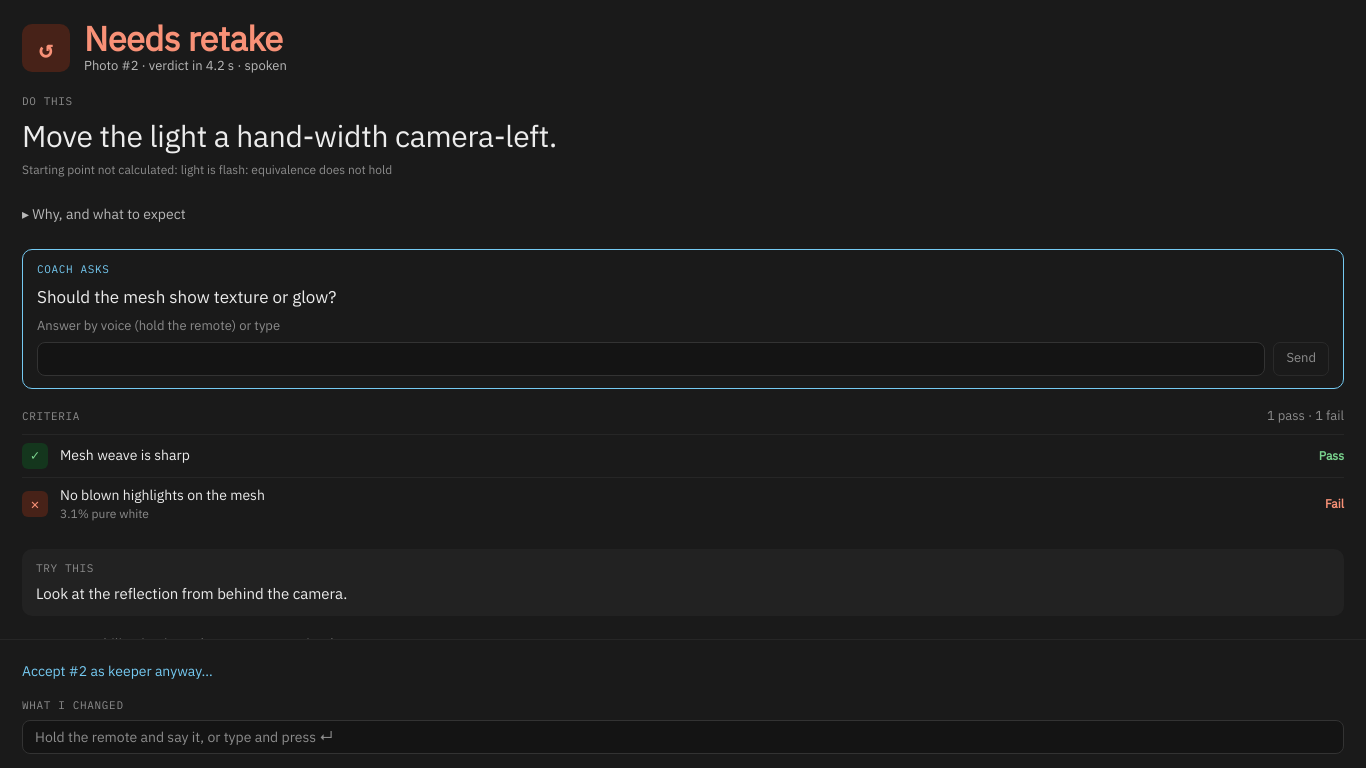
CoachPanel › renders a retake verdict: do this, why, coach asks, criteria, causes, model line
Expected: the heading "Needs retake" is shown, [84, 16, 283, 60]
Expected: the text "Photo #2 · verdict in 4.2 s · spoken" is shown, [84, 57, 287, 74]
Step 1. Click the button "▸ Why, and what to expect" → (104, 214), box [22, 197, 186, 231]
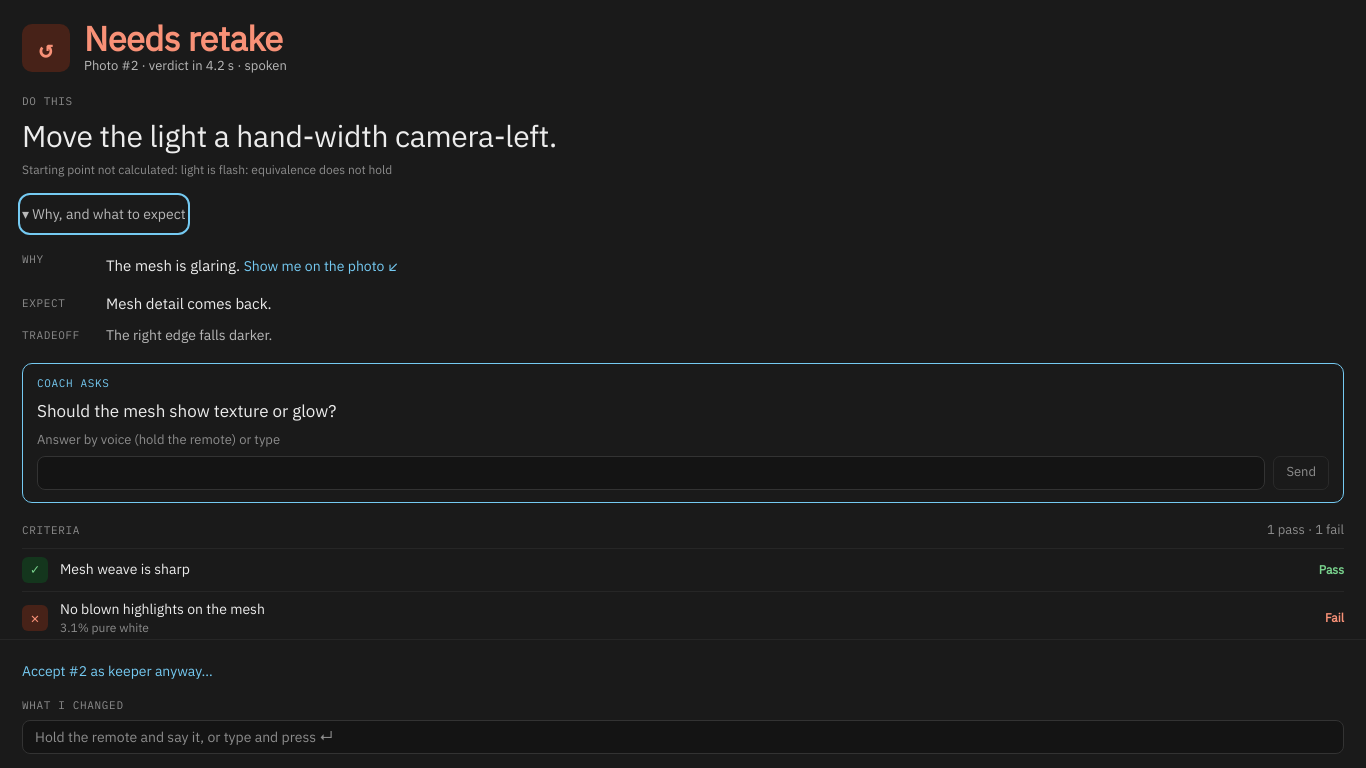
Now the text "The right edge falls darker." is shown, box [106, 326, 272, 344]
Step 2. Click the button "Show me on the photo ↙" → (321, 266), box [244, 249, 399, 283]
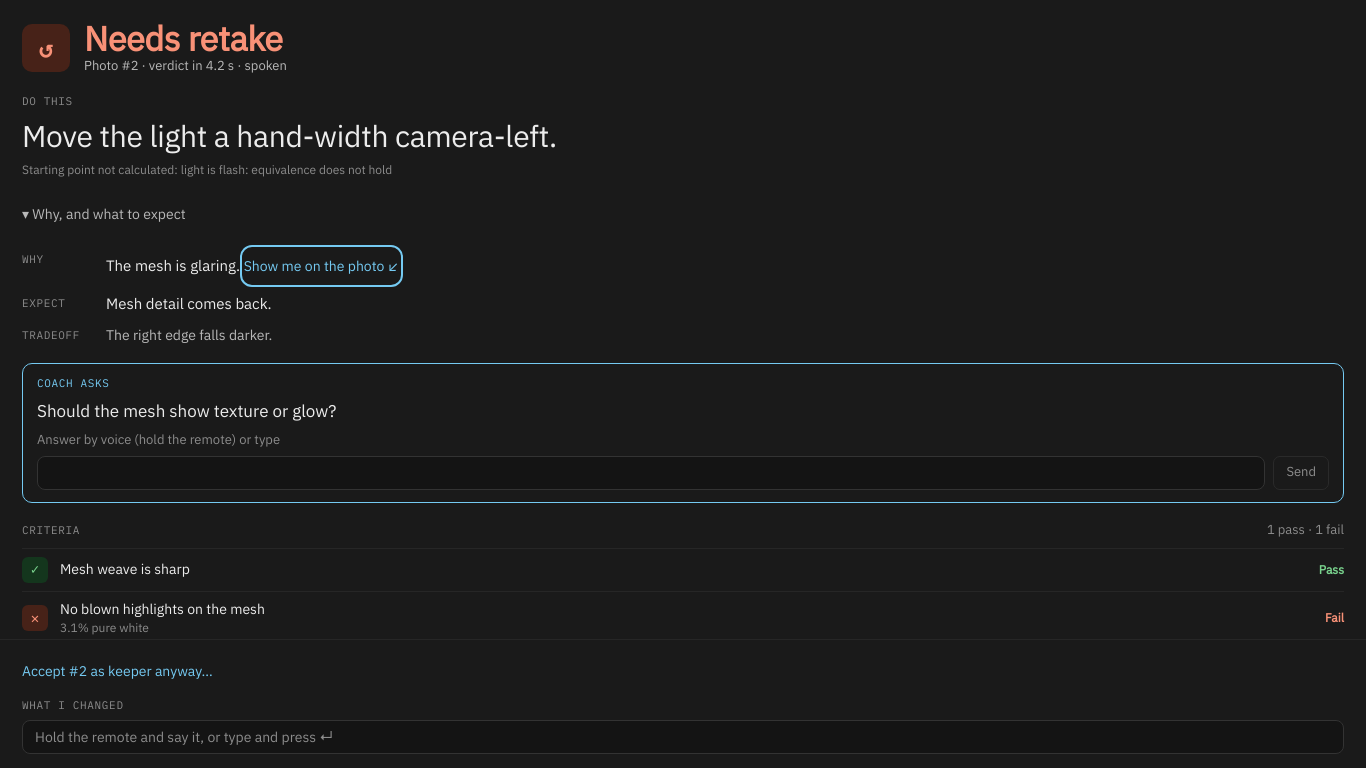
Expected: the text "Should the mesh show texture or glow?" is shown, [37, 400, 336, 422]
Step 3. Type "Texture" into the field labelled "Answer by voice (hold the remote) or type" → (651, 473), box [37, 456, 1265, 490]
Then press Enter
(page scrolled)
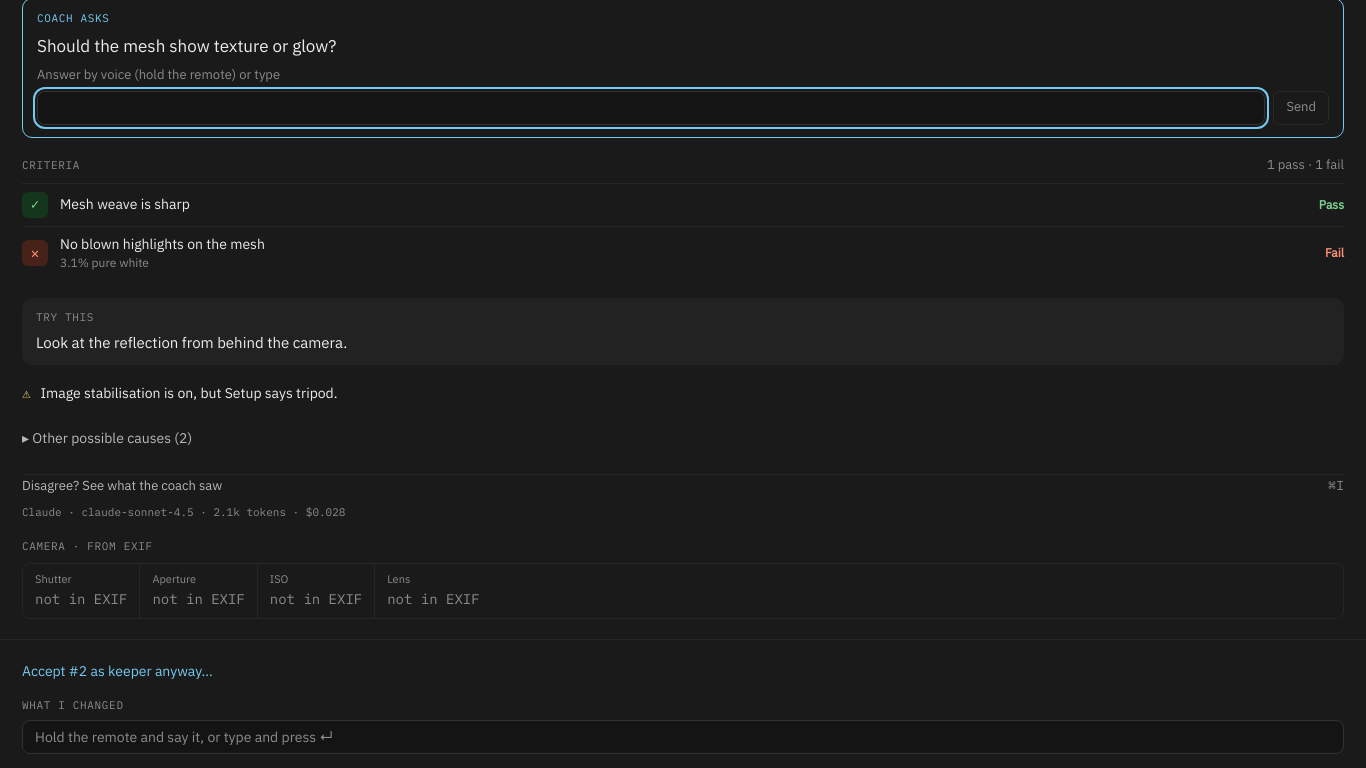
Expected: the text "Pass" is shown, [1319, 196, 1344, 213]
Now the text "Look at the reflection from behind the camera." is shown, box [36, 333, 347, 352]
Now the text "Image stabilisation is on, but Setup says tripod." is shown, box [40, 383, 338, 404]
Step 4. Click the button "▸ Other possible causes (2)" → (107, 439), box [22, 422, 192, 456]
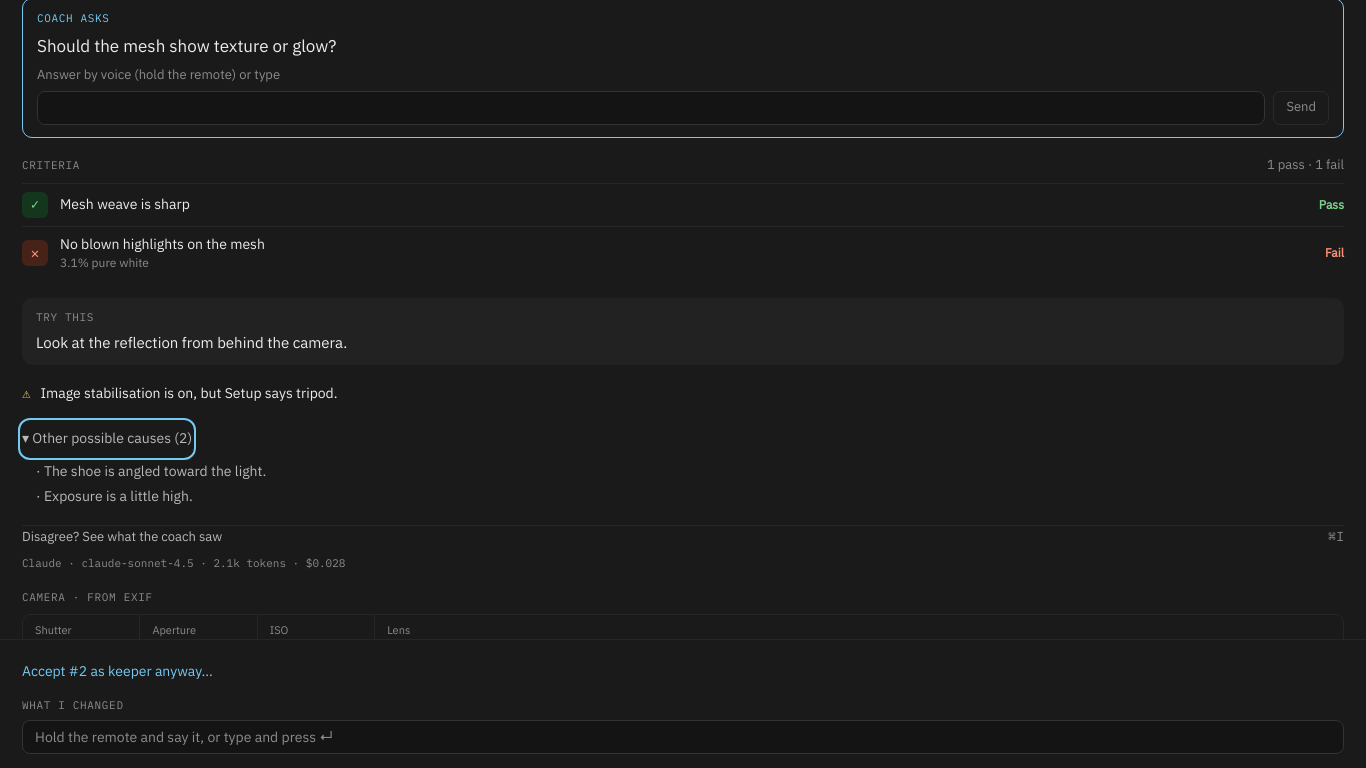
Expected: the button "Accept #2 as keeper anyway…" is shown, [22, 654, 213, 688]
Now the text with test id "coach-meta" reads "Claude · claude-sonnet-4.5 · 2.1k tokens · $0.028", box [22, 556, 345, 570]
Now the list item "Exposure is a little high." is shown, box [44, 487, 193, 505]
